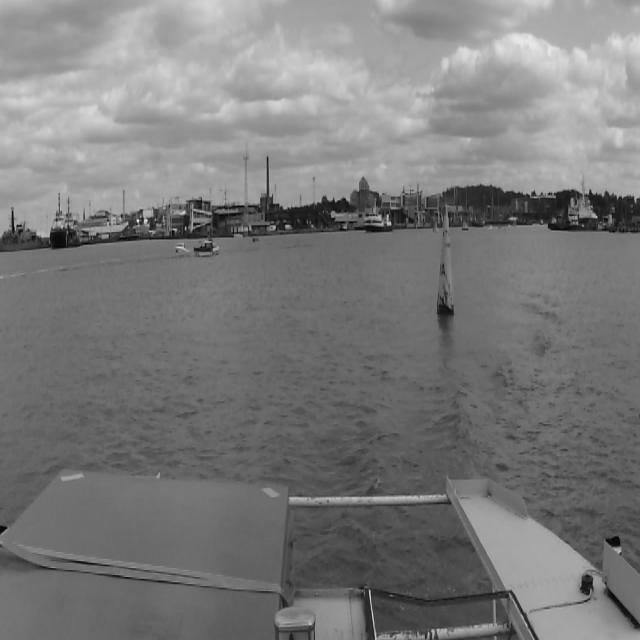buoy: (438, 208, 454, 315)
ship: (548, 191, 600, 232), (3, 206, 49, 251), (358, 208, 392, 236), (53, 196, 71, 246), (194, 241, 217, 256), (175, 244, 187, 254)
